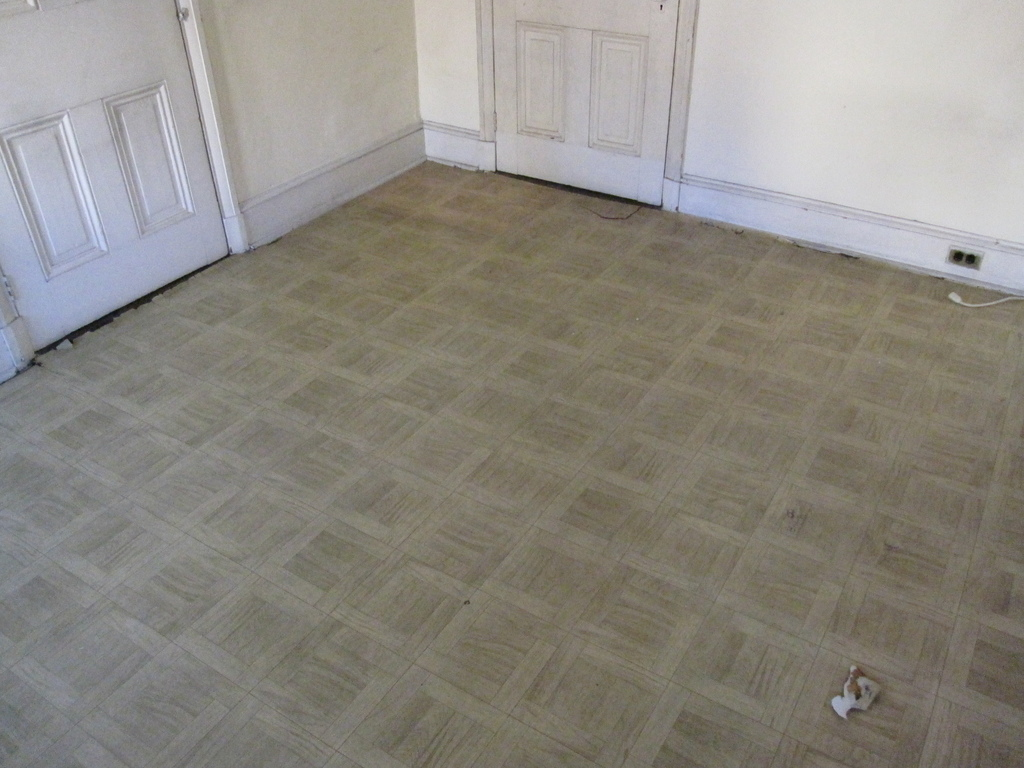door: (0, 10, 234, 246), (495, 4, 642, 164)
